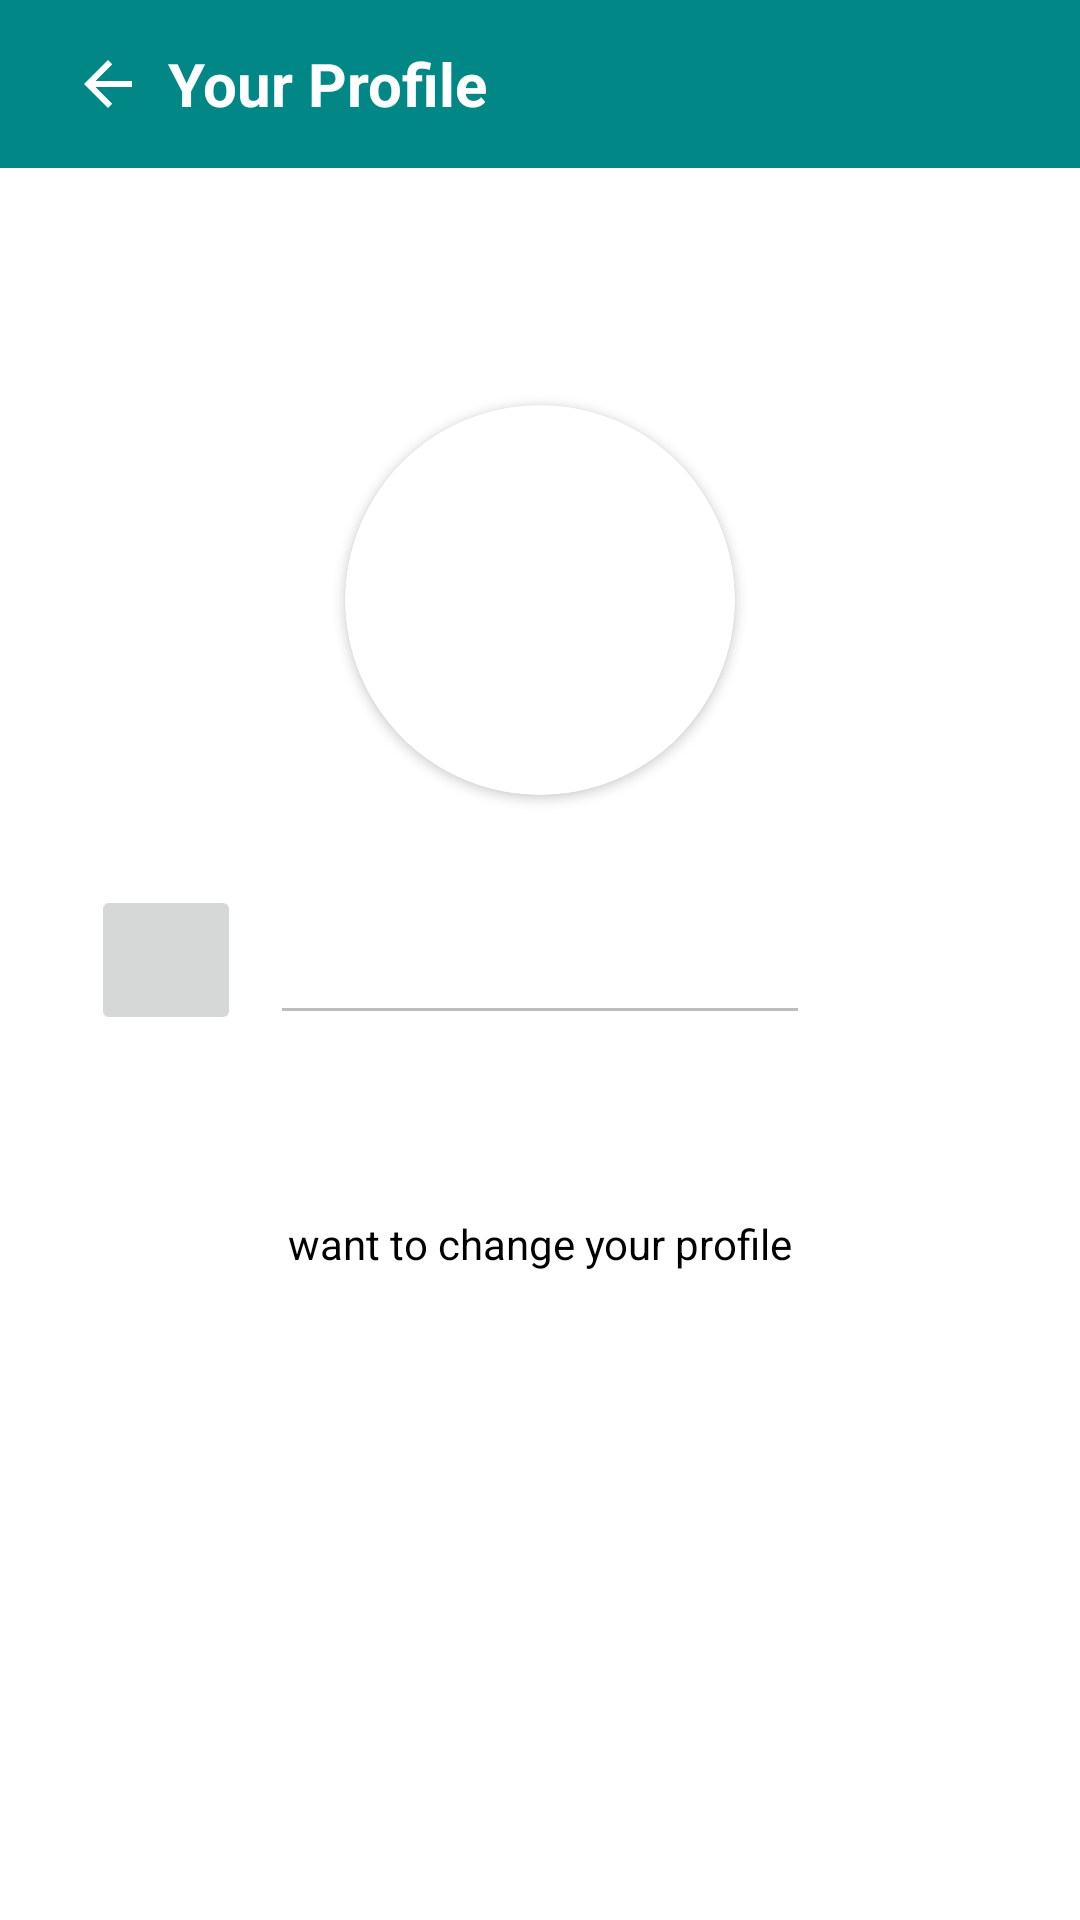

Locate icon controls on the screen. Image size 1080×1920, boxes as BBox(x1, y1, x2, y2).
arrow back: BBox(84, 60, 132, 108)
